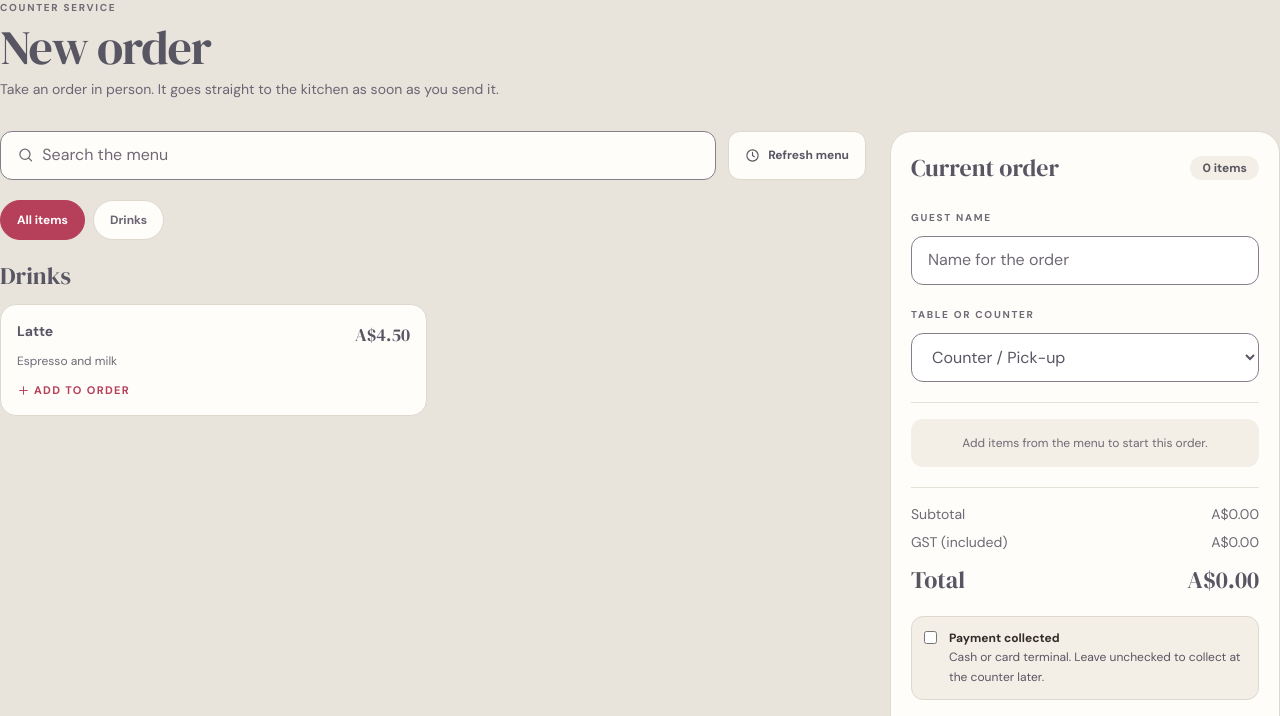
NewOrderWorkspace › builds a counter order and sends it to the kitchen
The width and height of the screenshot is (1280, 716).
Click the button with aria-label "add latte" at (35, 331), box [0,304,427,416]
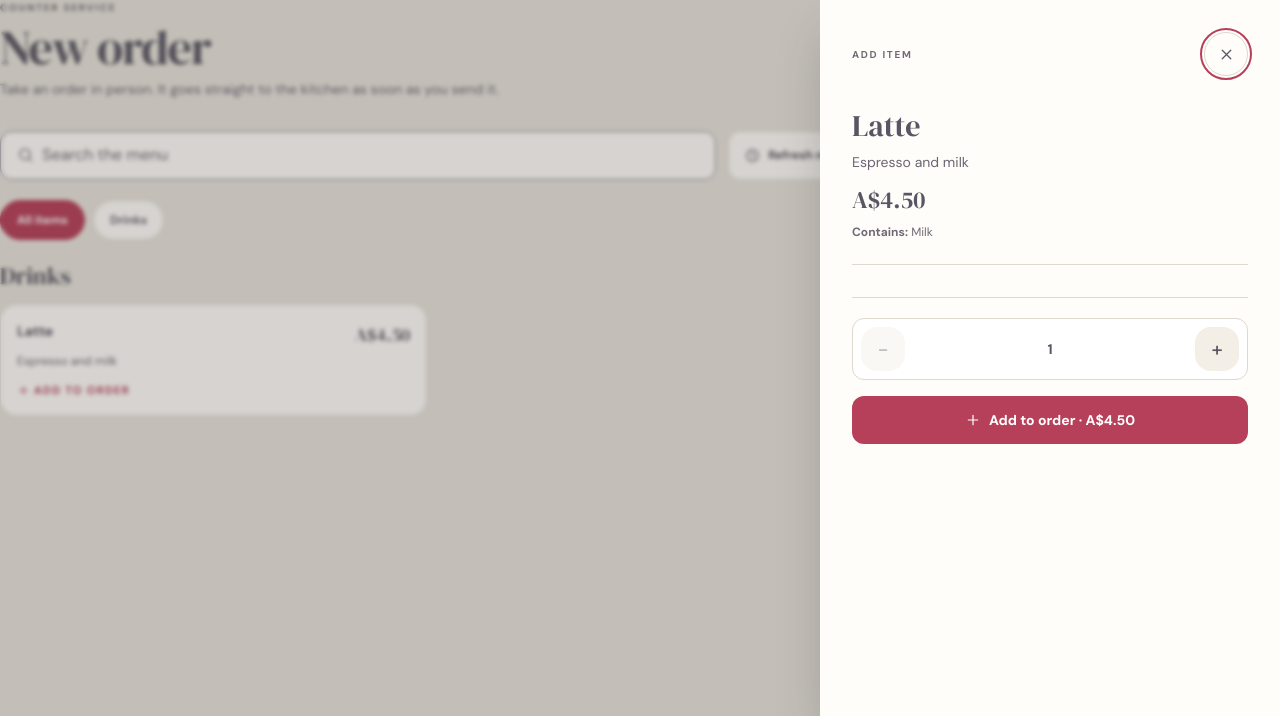
Click the button "Add to order · A$4.50" at (1050, 420), box [852,396,1248,444]
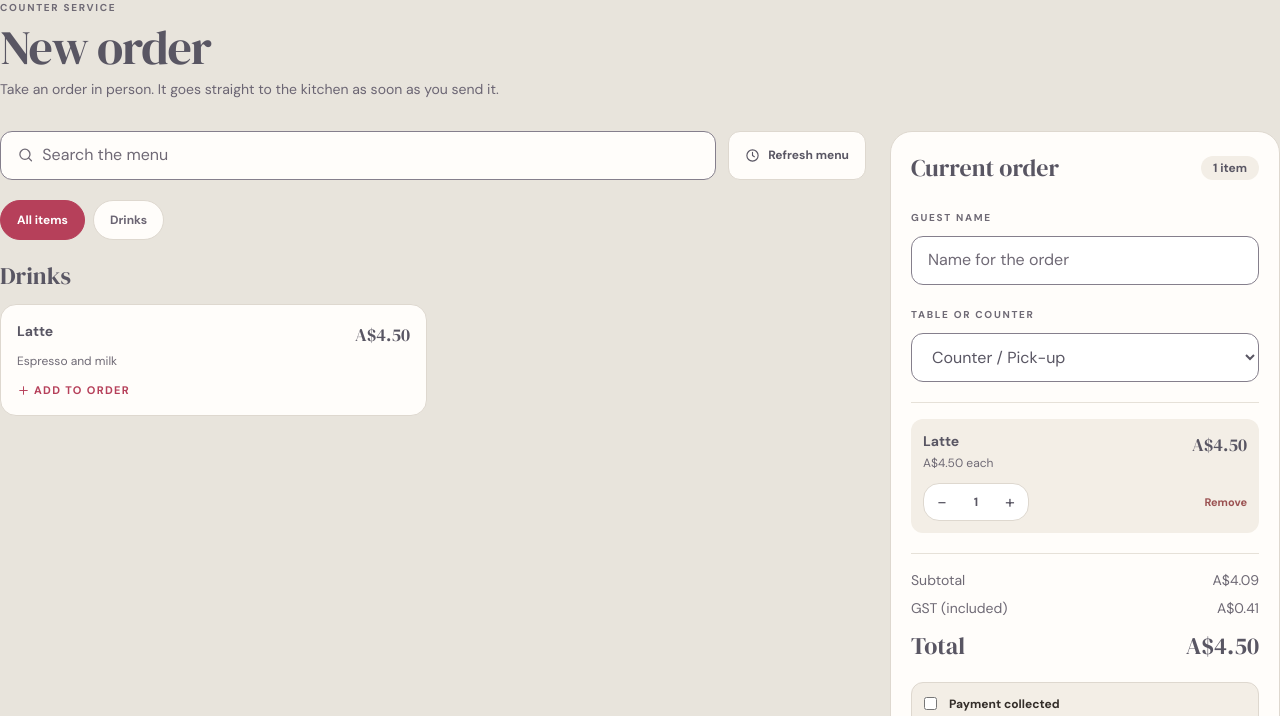
Type "Ada" into the field labelled "Guest name" at (1085, 260), box [911,236,1259,285]
(page scrolled)
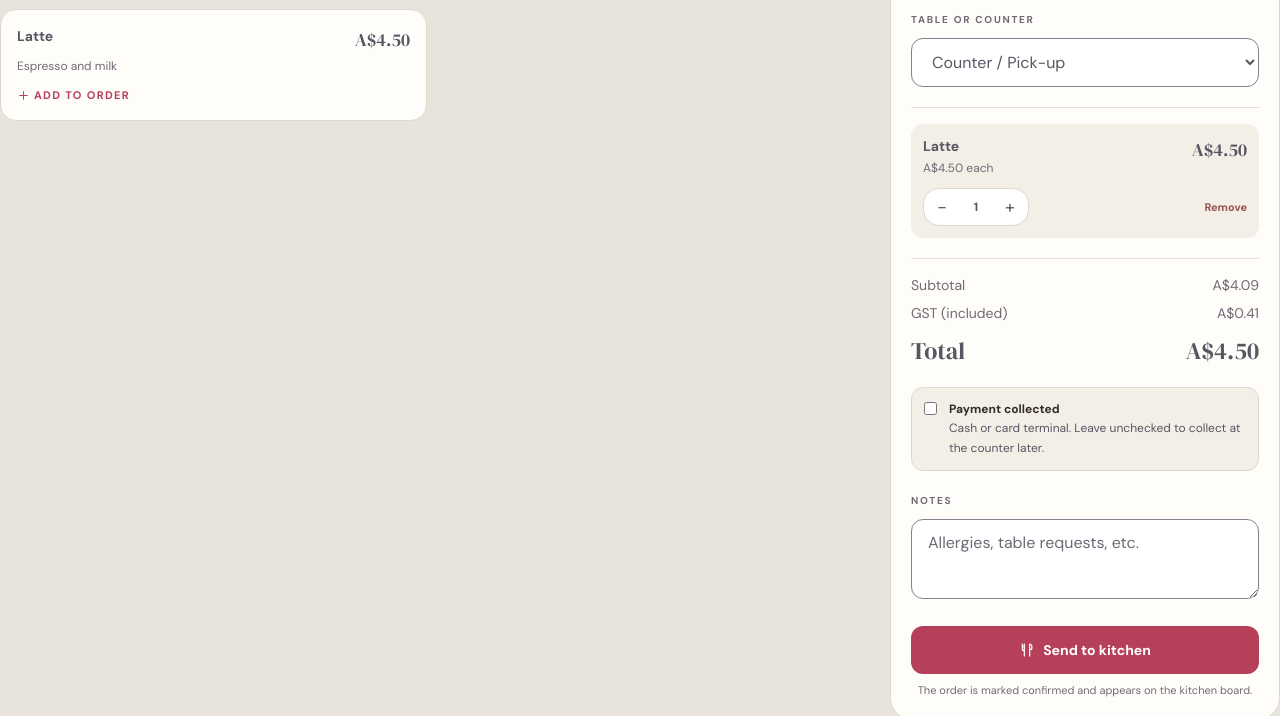
Type "Soy milk allergy" into the text box named "Order notes" at (1085, 559), box [911,519,1259,599]
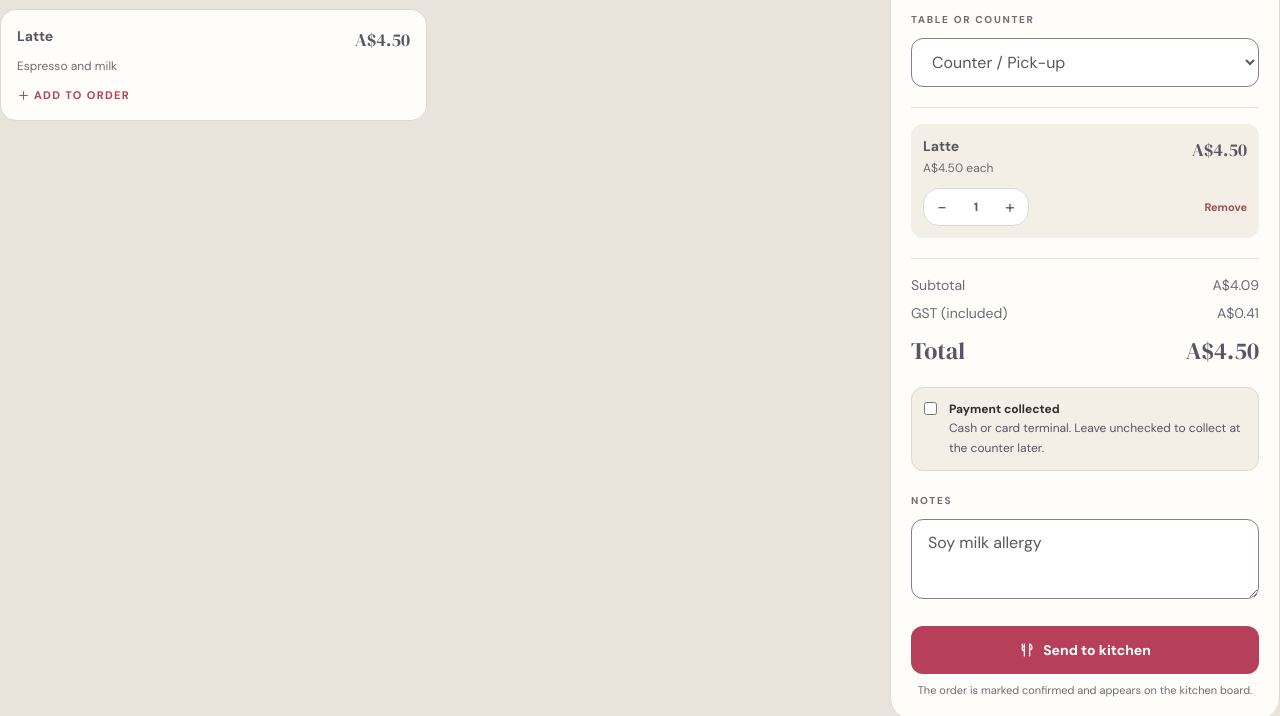
Click the button "Send to kitchen" at (1085, 650), box [911,626,1259,674]
(page scrolled)
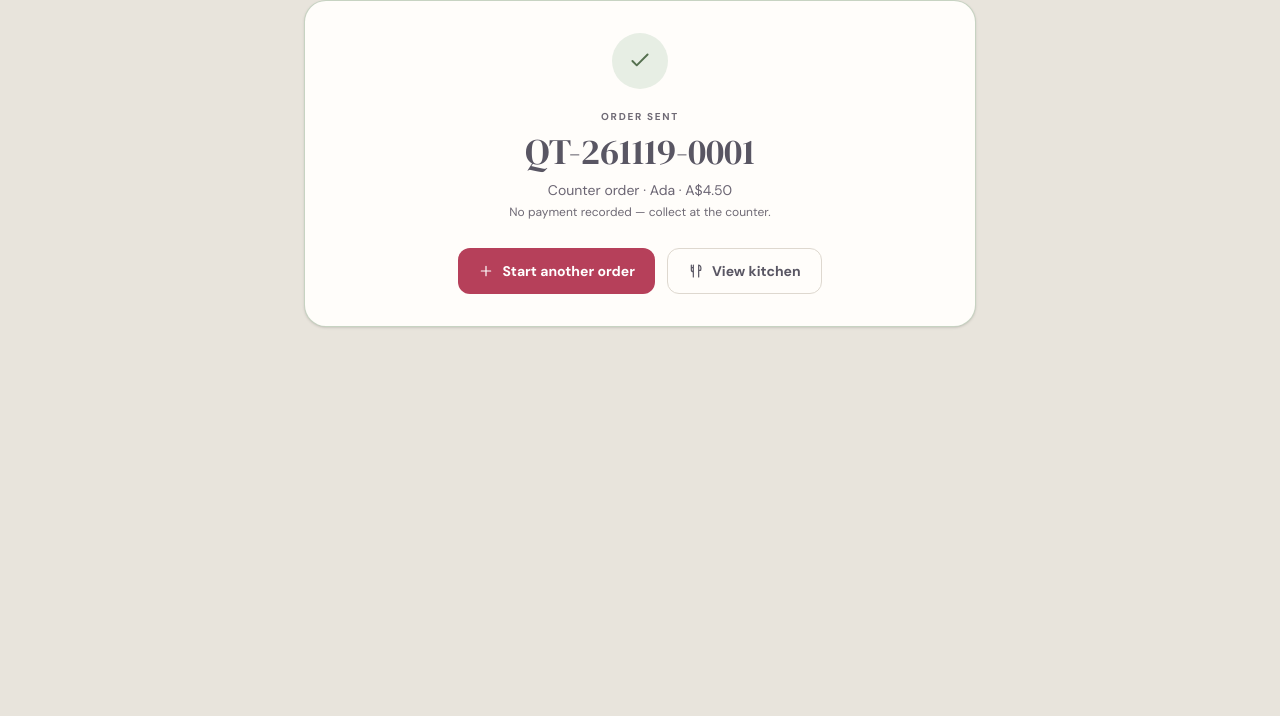
Now the heading "QT-261119-0001" is shown, box [525,127,755,176]
Now the text "Counter order · Ada · A$4.50" is shown, box [548,181,732,199]
